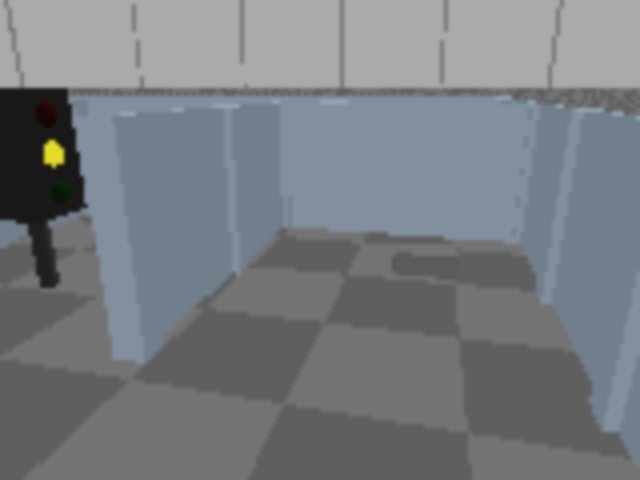obstacle: (393, 243, 459, 279)
traffic_light: (0, 75, 98, 301)
